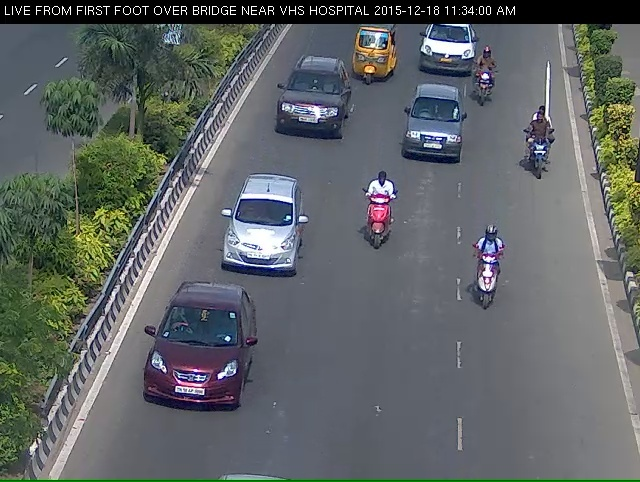Auto: (346, 26, 391, 88)
Car: (134, 304, 270, 454), (214, 189, 306, 295), (270, 58, 358, 160), (403, 87, 463, 183), (412, 21, 475, 84)
Person: (467, 239, 514, 333), (353, 189, 406, 268), (521, 110, 563, 197), (479, 60, 498, 120)
